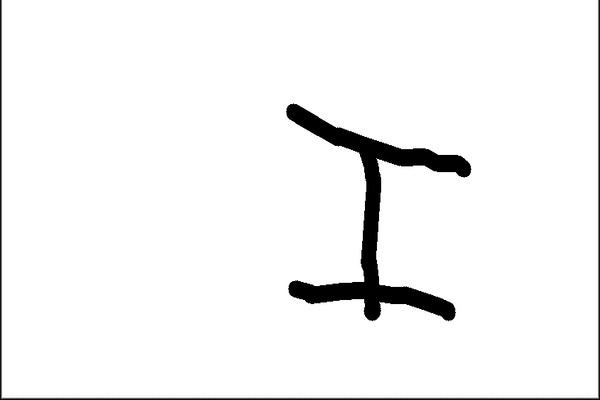i: (272, 95, 475, 328)
